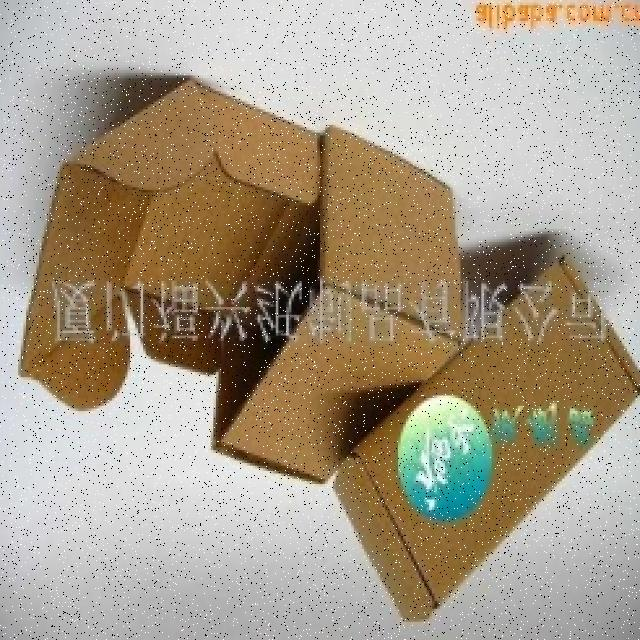box: (9, 115, 461, 510), (328, 242, 640, 632)
